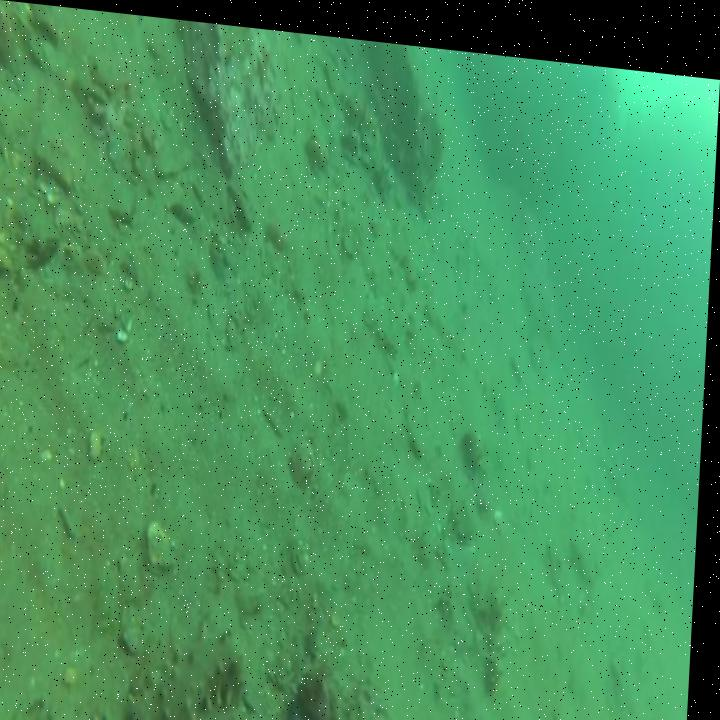holothurian: (136, 621, 254, 720), (339, 75, 383, 135)
starfish: (273, 689, 344, 720)
